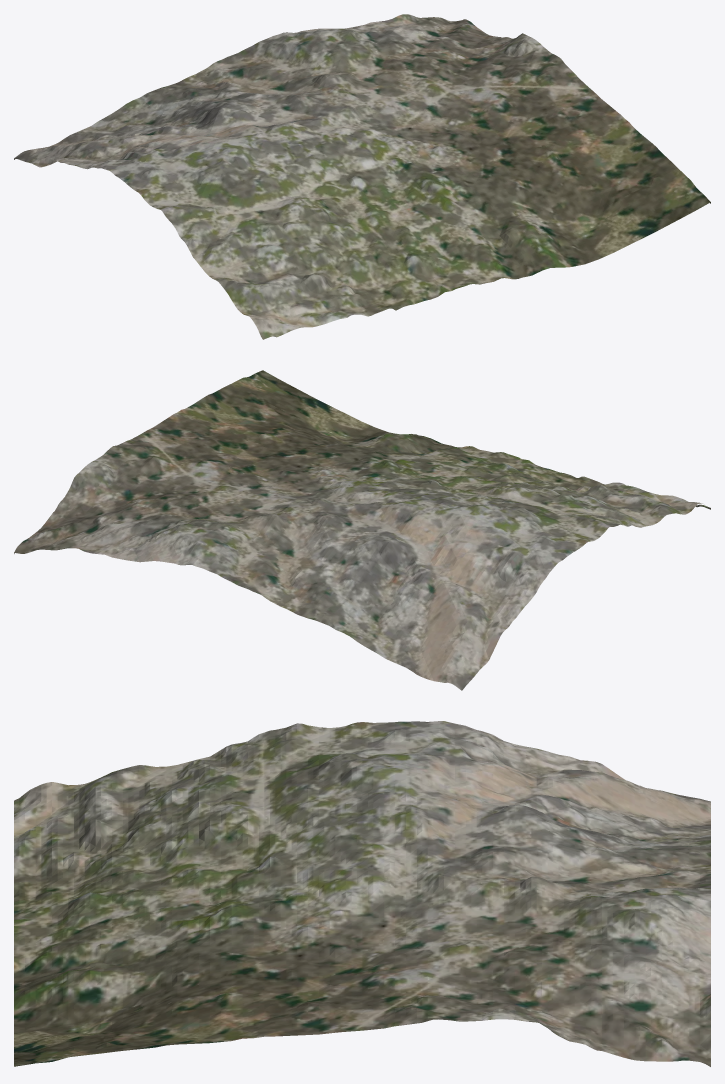
3 views of the same model, one above another, from view 1: azimuth 30°, elevation 25°; view 2: azimuth 150°, elevation 25°; view 3: azimuth 270°, elevation 25° (orthographic). The views are drawn at different scales.
Bounding box in the file's own units: 250 × 40.78 × 241.
1 material, 1 textured.
